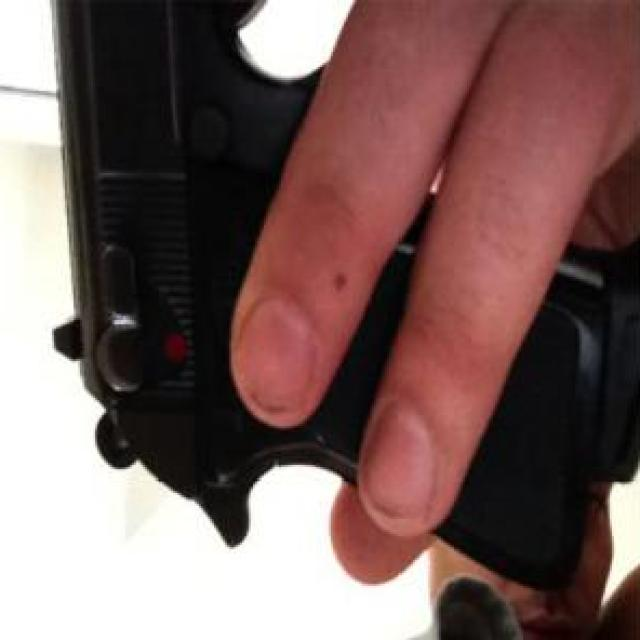pistol: (70, 9, 621, 572)
